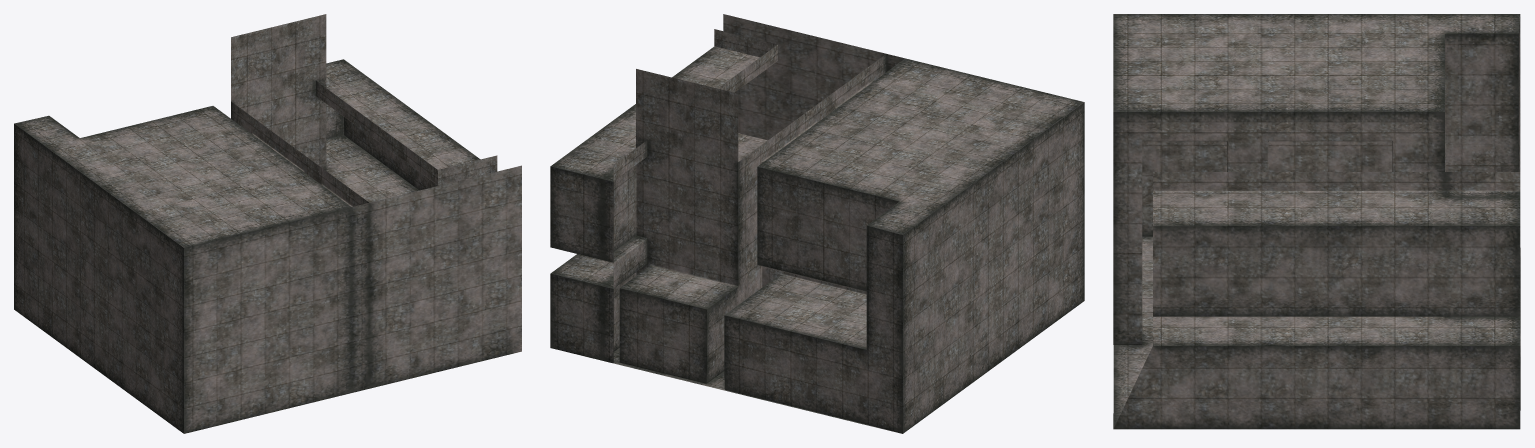
The model's file is brutalist_concrete_interior_vr_room__pbr.glb.
The picture shows the model from 3 angles, left to right: view 1: azimuth 30°, elevation 25°; view 2: azimuth 150°, elevation 25°; view 3: azimuth 270°, elevation 25°; orthographic projection. The views are drawn at different scales.
Visible parts, largest first — view 1: Plane.001_0; view 2: Plane.001_0; view 3: Plane.001_0.
Boxes of the visible parts, <box> form: Plane.001_0: <box>14,14,521,433</box>; Plane.001_0: <box>550,14,1084,433</box>; Plane.001_0: <box>1113,14,1520,429</box>.
Size of the model in its own units: 7.63 by 5.4 by 6.65.
Materials: 1 (1 with a texture image).
